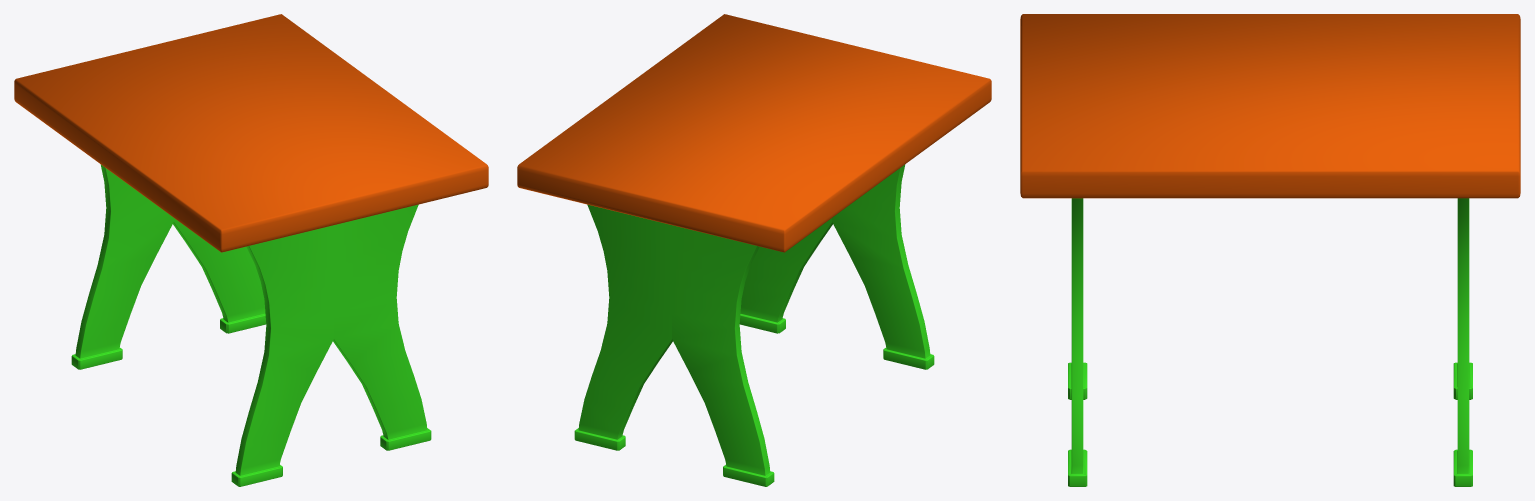
File: Table.fbx
The picture shows the model from 3 angles, left to right: view 1: azimuth 30°, elevation 25°; view 2: azimuth 150°, elevation 25°; view 3: azimuth 270°, elevation 25°; orthographic projection. The views are drawn at different scales.
Visible parts, largest first — view 1: Table, Table Legs; view 2: Table, Table Legs; view 3: Table, Table Legs.
Boxes of the visible parts, <box> form: Table: <box>14,14,488,252</box>; Table Legs: <box>71,164,431,486</box>; Table: <box>517,14,991,252</box>; Table Legs: <box>574,164,934,486</box>; Table: <box>1020,14,1520,198</box>; Table Legs: <box>1068,198,1472,486</box>.
Size of the model in its own units: 60 by 60 by 80.42.
